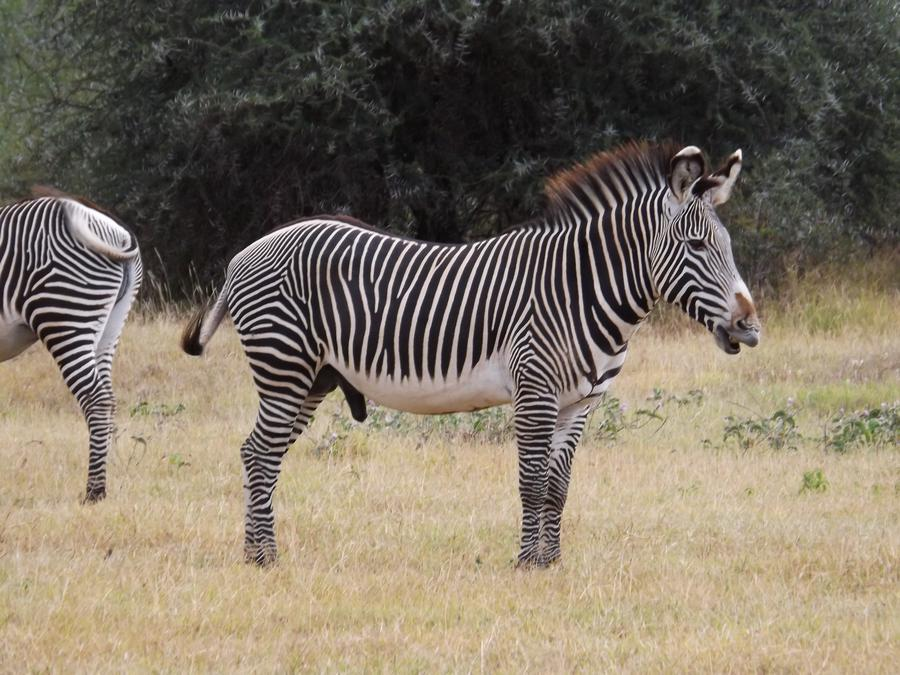zebra_grevys: (227, 225, 587, 408)
